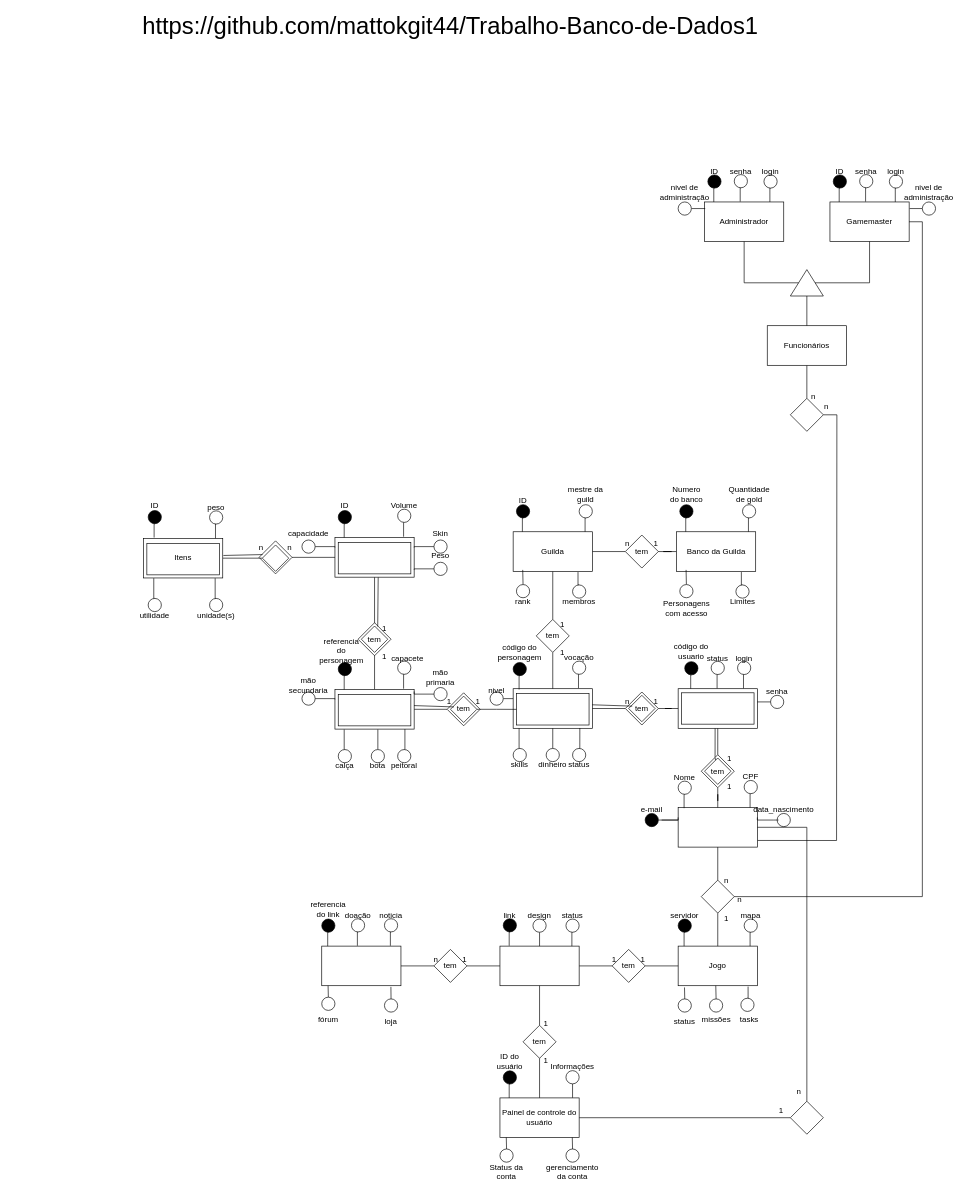
Image size: 965x1193. Some labels were removed from this diagram. Each missing label, with the box of its shape:
Abas: (321, 945, 401, 986)
Conta: (677, 688, 757, 728)
guarda: (262, 544, 289, 571)
Inventário: (334, 689, 414, 729)
joga: (701, 879, 734, 913)
Jogador: (677, 807, 757, 847)
Mochila: (334, 537, 414, 577)
monitora: (790, 398, 823, 431)
Personagem: (512, 688, 592, 728)
Site: (499, 945, 579, 986)
usa: (790, 1101, 823, 1134)
